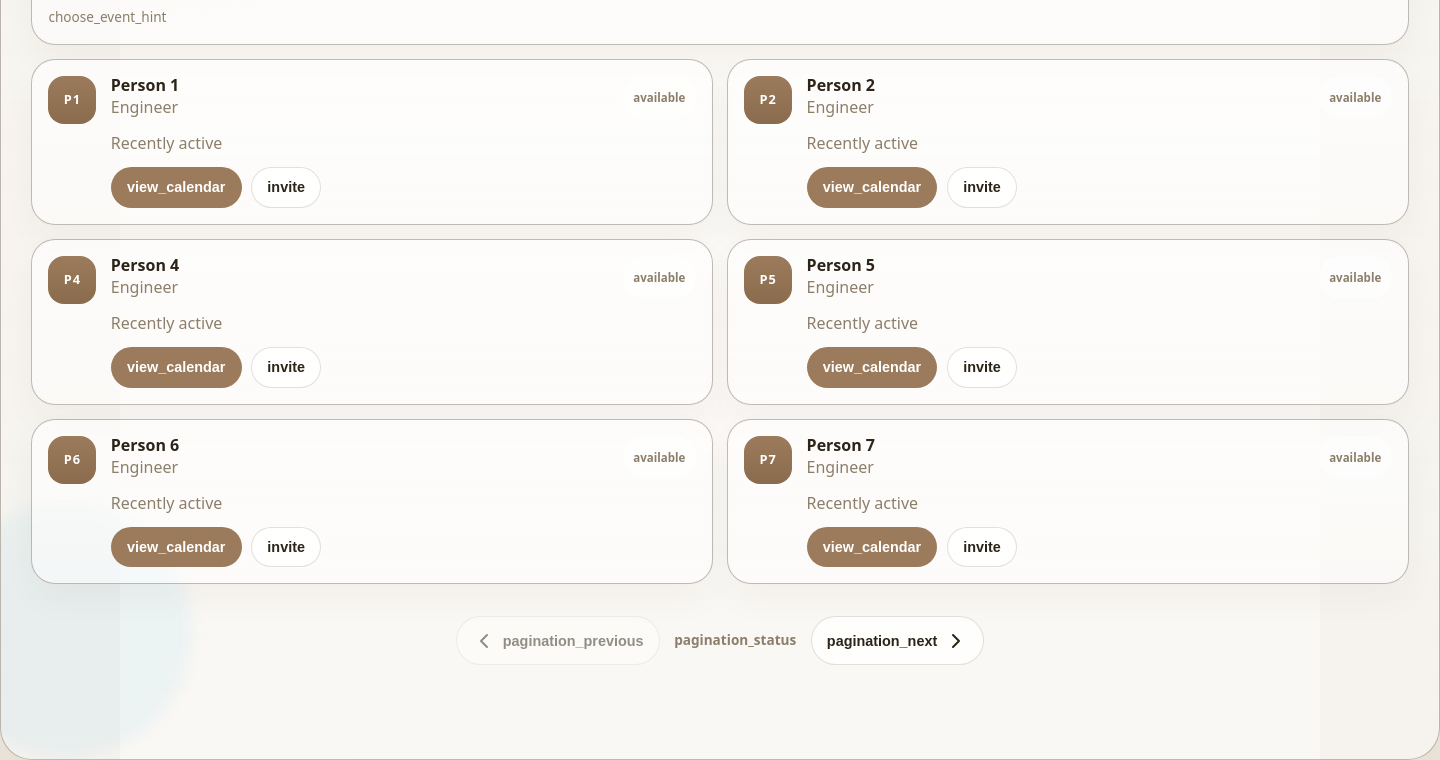
Scenario: ContactsPage › self-exclusion › excludes the current user sourced from Redux (not authService) on every page
(page scrolled)
Check: the heading "Person 1" is shown, box [111,76,179,95]
Check: the heading "Person 2" is shown, box [807,76,875,95]
Click the button "pagination_next" at (897, 641), box [811,616,984,665]
(page scrolled)
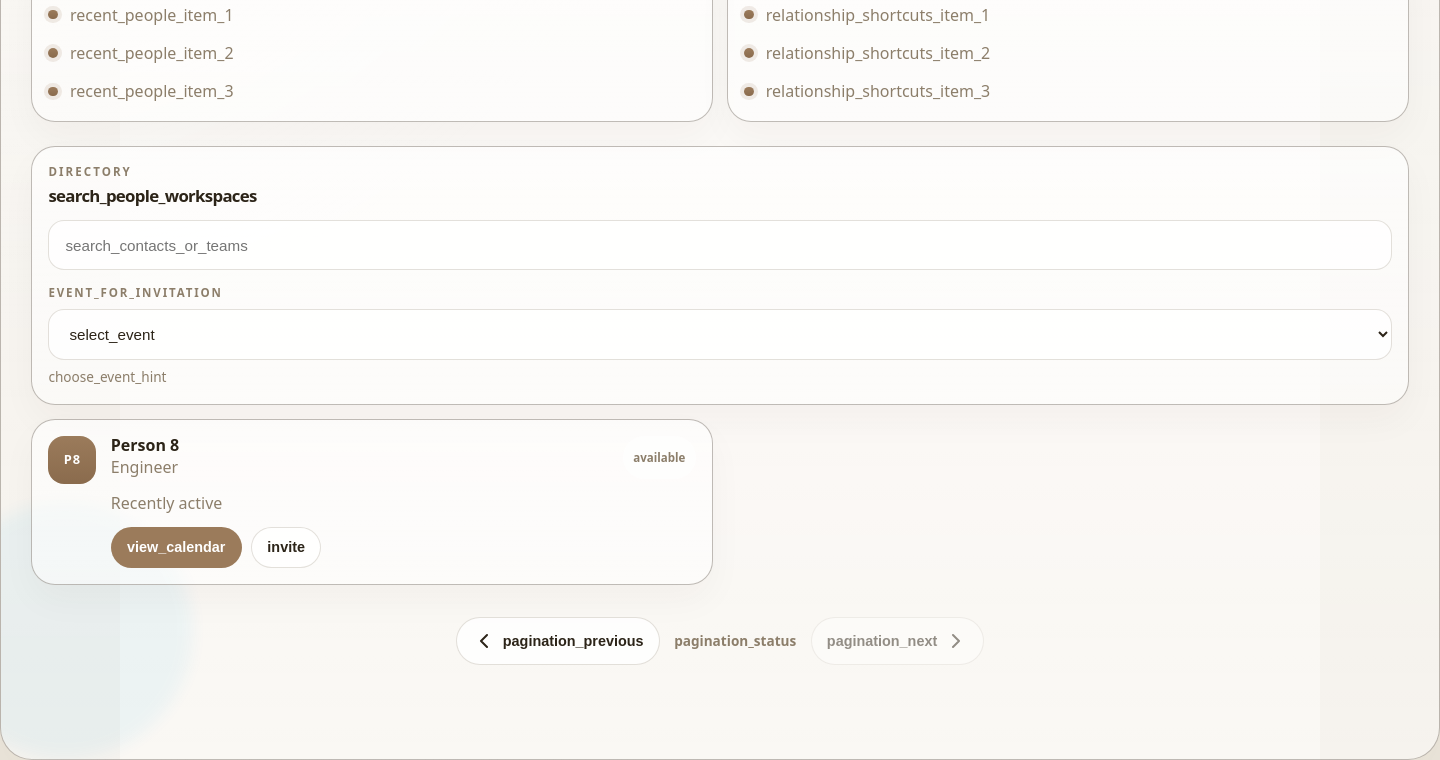
Check: the heading "Person 8" is shown, box [111,436,179,455]
